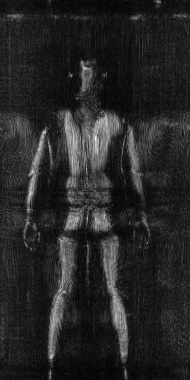gun: (74, 80, 109, 120)
